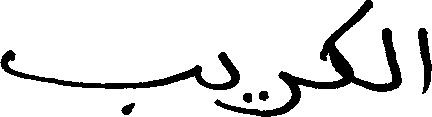X: (0, 45, 176, 116), (325, 0, 370, 94), (258, 66, 299, 116), (220, 47, 240, 116), (382, 23, 400, 96), (418, 23, 431, 98)
